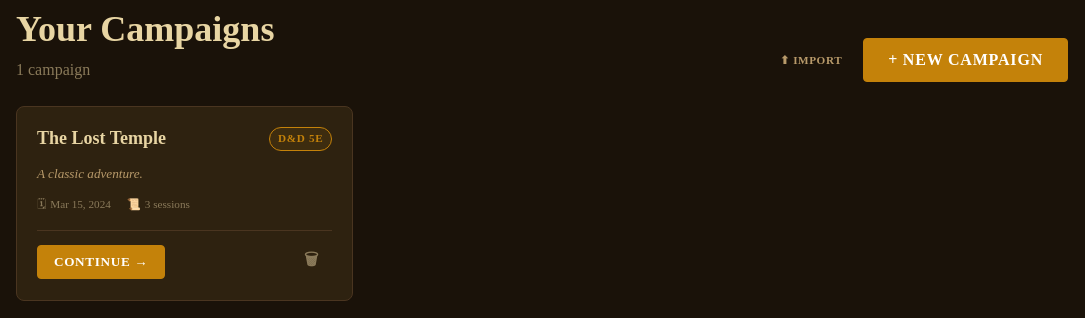
it: CampaignList › confirm-delete flow › shows "Delete?" prompt after clicking the trash button
The image size is (1085, 318).
Click the button titled "delete campaign" at [312, 262], box [291,243,332,280]
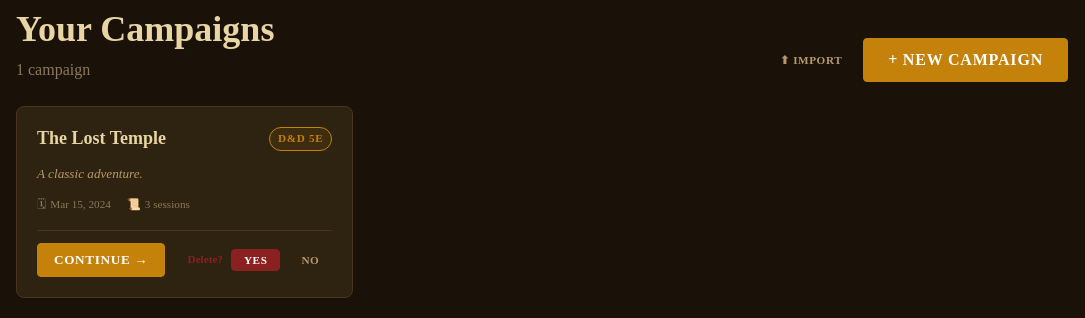
Check: the text "Delete?" is shown, box [188,251,223,269]
